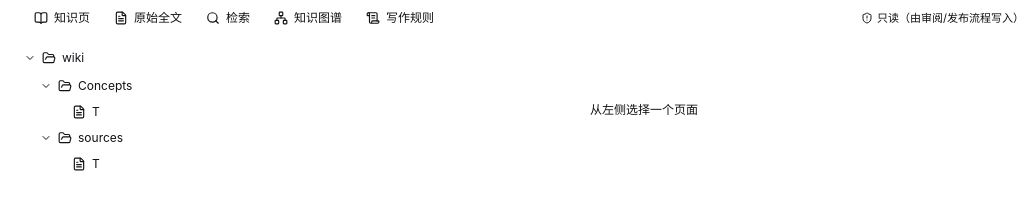
it: KbWikiTab 知识检索（issue 14 统一检索） › 点击 wiki 命中：切到知识页区并打开该页
Expected: the element with test id "wiki-group-Concepts" is shown, top-left (12, 72), bottom-right (252, 124)
Click the button with test id "kb-wiki-search-tab".
click(228, 18)  # box top-left (196, 6), bottom-right (260, 30)
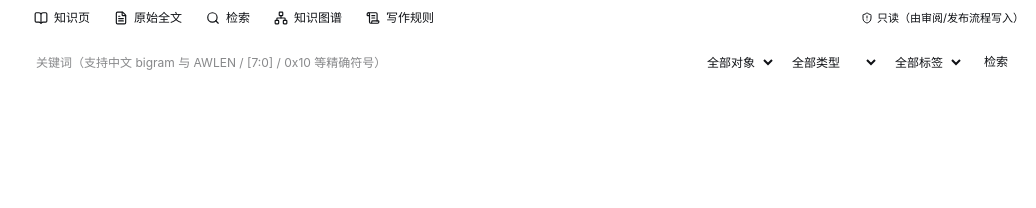
Result: the element with test id "kb-wiki-search" is shown at top-left (28, 48), bottom-right (1020, 76)
Type "DDS" into the field with test id "kb-wiki-search-input".
click(360, 62); type("DDS")  # box top-left (28, 48), bottom-right (691, 76)
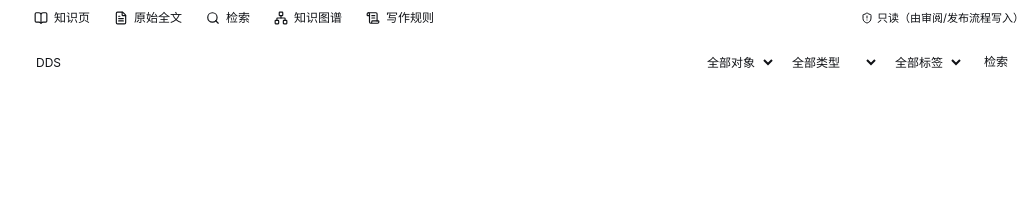
Click the button with test id "kb-wiki-search-run".
click(996, 62)  # box top-left (972, 48), bottom-right (1020, 76)
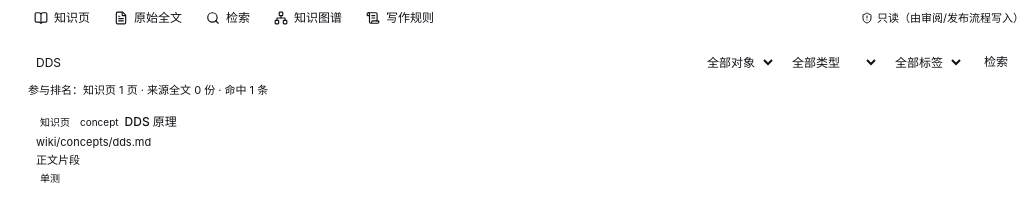
Click the button with test id "kb-wiki-search-hit-wiki-concepts/dds".
click(99, 122)  # box top-left (28, 106), bottom-right (1020, 192)
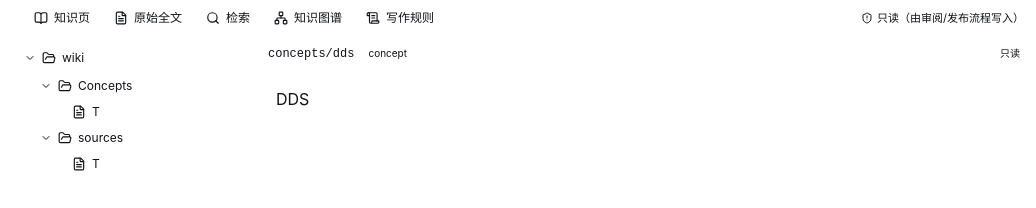
Result: the text "concepts/dds" is shown at top-left (268, 46), bottom-right (354, 62)
Result: the button with test id "wiki-page-concepts/axi" is shown at top-left (12, 100), bottom-right (252, 124)
